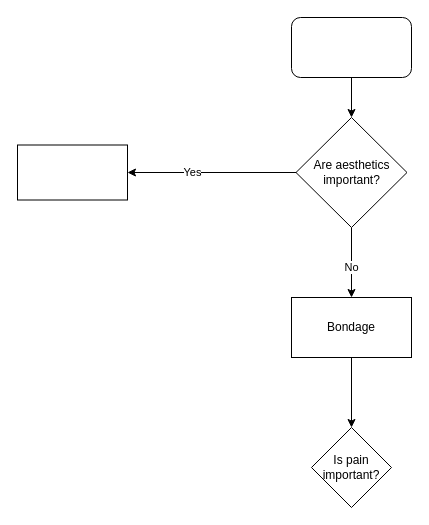
The diagram is 429 pixels wide and 525 high, and some of its shapes have lost their labels. Here are the shapes that lost their labels. From the top down, the centre of each, then its label:
At point 351,47: "Rope".
At point 72,172: "Shibari".
